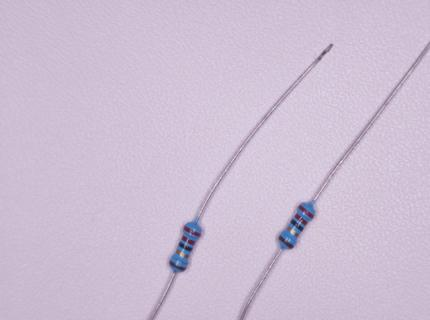Black band: (290, 218, 305, 232), (178, 241, 193, 253)
Brown band: (278, 234, 295, 249), (169, 260, 186, 272)
Gold band: (286, 226, 300, 239), (175, 248, 190, 259)
Red band: (298, 205, 315, 219), (184, 226, 202, 238), (294, 213, 308, 226), (181, 234, 196, 246)
